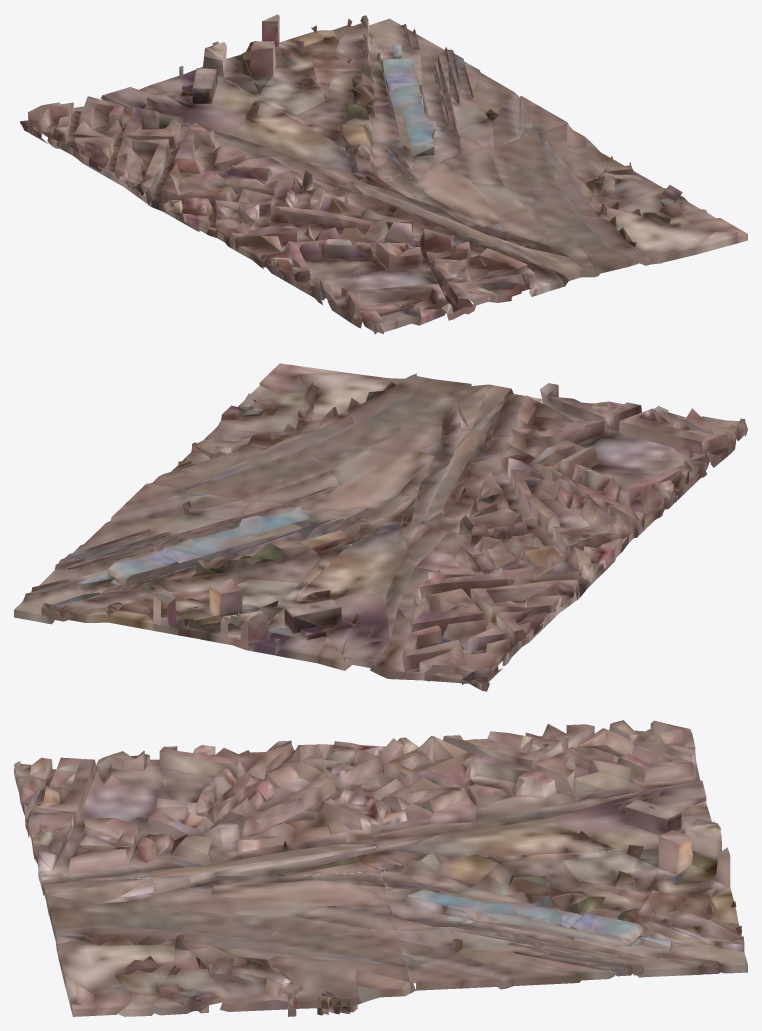
3 renders of one model, top to bottom at view 1: azimuth 30°, elevation 25°; view 2: azimuth 150°, elevation 25°; view 3: azimuth 270°, elevation 25°, orthographic. The views are drawn at different scales.
Parts seen in each view (by area): view 1: Mesh_0; view 2: Mesh_0; view 3: Mesh_0.
Boxes of the visible parts, box(x1,y1,x2,y2) form: Mesh_0: box(20, 14, 747, 334); Mesh_0: box(14, 363, 747, 691); Mesh_0: box(14, 720, 747, 1016).
Size of the model in its own units: 540 by 74.02 by 659.
Materials: 2 (2 with a texture image).
